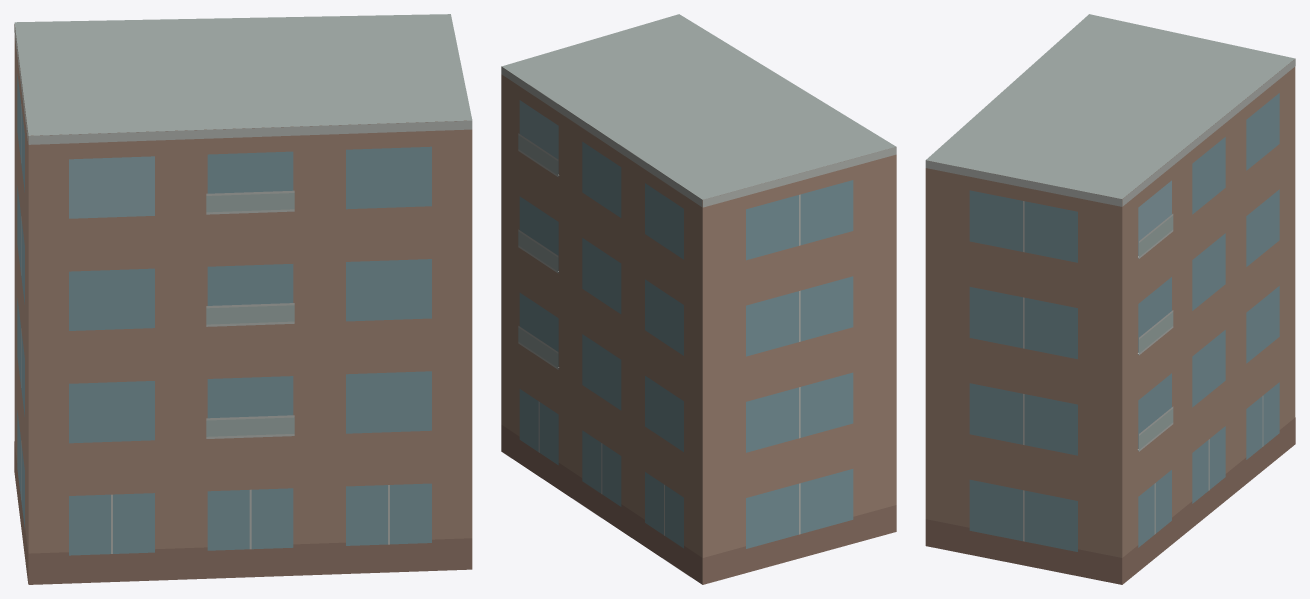
File: survey-upis-32986848.glb
3 renders of one model, left to right at view 1: azimuth 30°, elevation 25°; view 2: azimuth 150°, elevation 25°; view 3: azimuth 270°, elevation 25°, orthographic. The views are drawn at different scales.
Parts seen in each view (by area): view 1: survey-upis-32986848.tmp; view 2: survey-upis-32986848.tmp; view 3: survey-upis-32986848.tmp.
Part boxes in pixels (box(x1,y1,x2,y2)): survey-upis-32986848.tmp: box(14, 14, 472, 584); survey-upis-32986848.tmp: box(501, 14, 896, 584); survey-upis-32986848.tmp: box(925, 14, 1295, 584).
Size of the model in its own units: 12.46 by 12.1 by 10.52.
